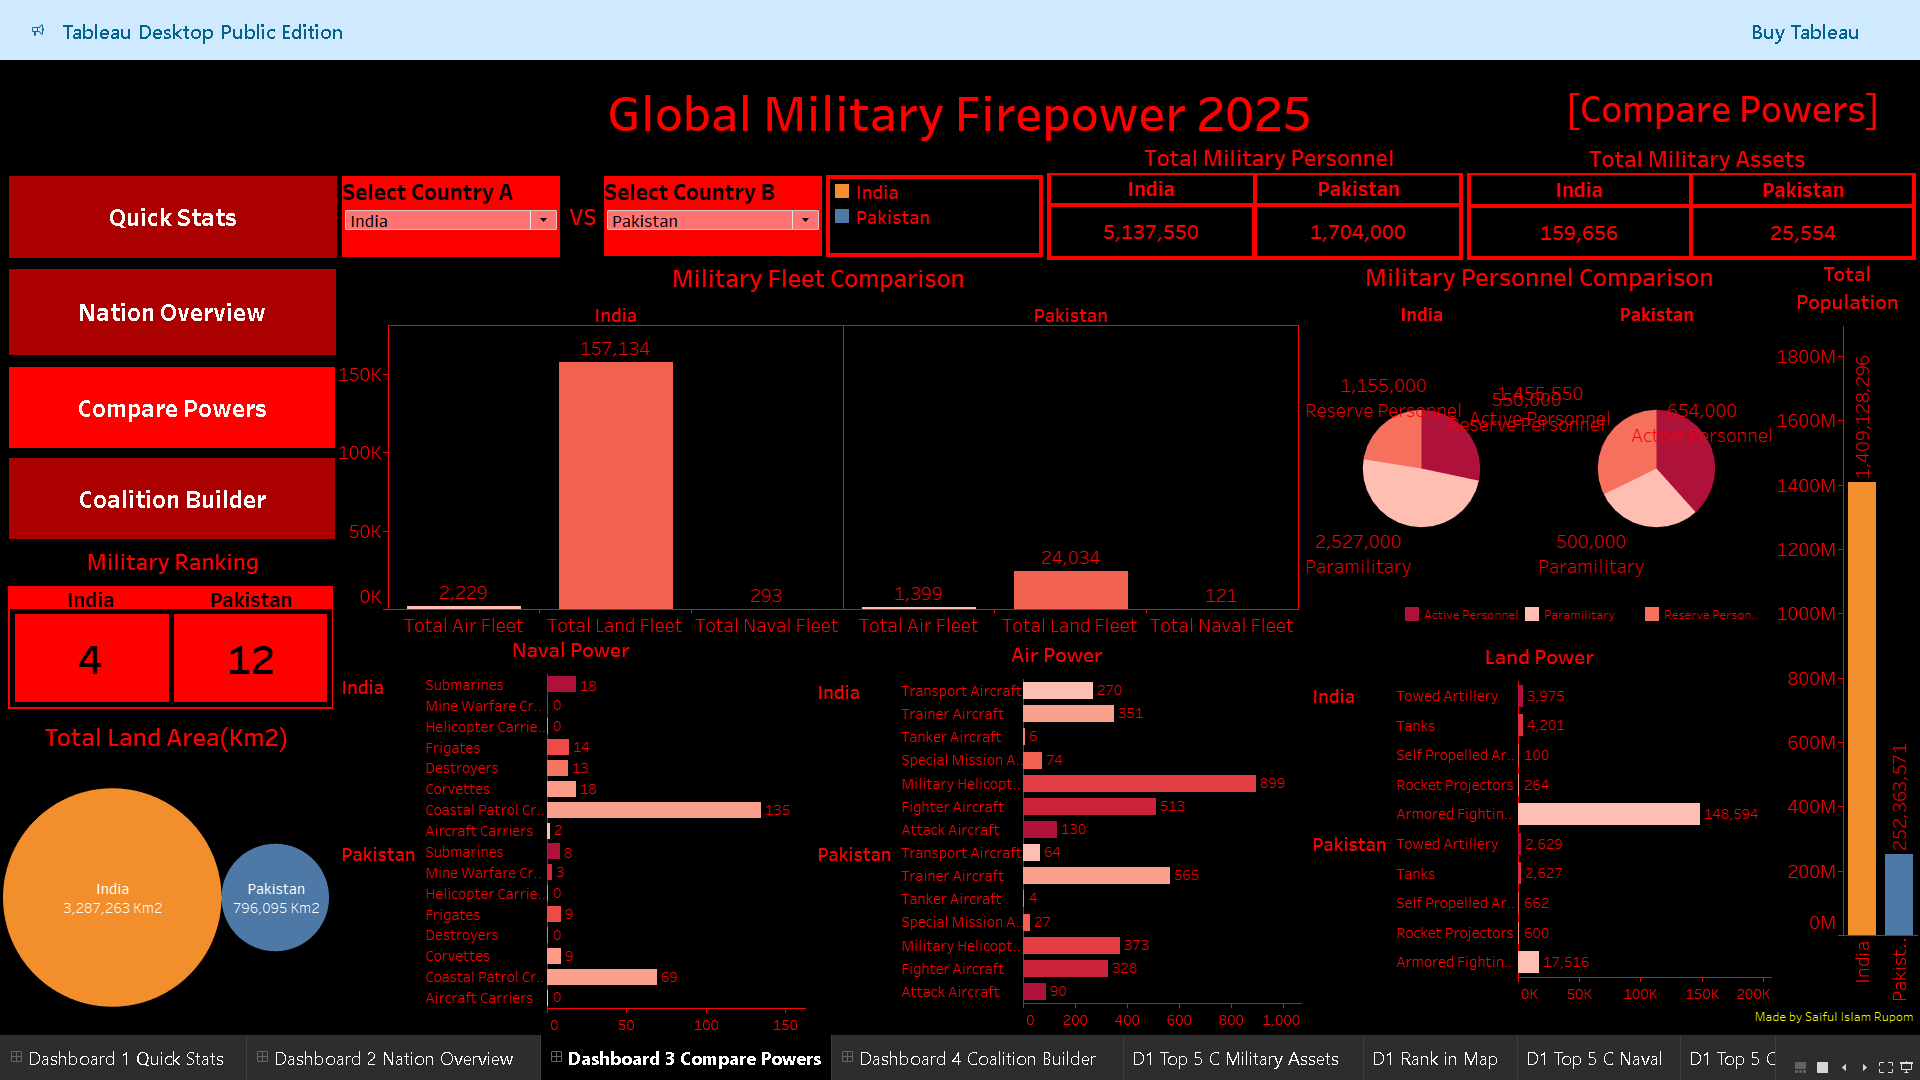

The page's visual inventory and layout, read from the dashboard file:
{"tool":"tableau","page":{"name":"Dashboard 3 Compare Powers","canvas":[1000,1000],"units":"permille","ordinal":2},"visuals":[{"type":"text","box":[796.1,5.4,201.4,88.5]},{"type":"text","box":[578.9,81.8,164.5,34.9]},{"type":"text","box":[801.7,83.1,164.5,34.9]},{"type":"worksheet","title":"D3 Military Per Com","mark":"Automatic","cols":["Calculation_1104789297251049472"],"box":[544.1,113.9,218.4,92.5]},{"type":"worksheet","title":"D3 Military Assets Com","mark":"Automatic","cols":["Calculation_1104789297251049472"],"box":[763,113.9,235.4,92.5]},{"type":"dashboard-object","box":[3.7,116.6,172.7,88.5]},{"type":"legend","title":"D3 Poulation Com","param":"[federated.04j63lw0p5v43o137wemf0y1v2ac].[none:Calculation_1104789297251049472:n","box":[430.2,118,112.8,84.5]},{"type":"parameter","param":"[Parameters].[Parameter 1]","box":[178.3,119.3,113.5,83.1]},{"type":"parameter","param":"[Parameters].[Parameter 2]","box":[314.8,119.3,113.5,81.8]},{"type":"text","box":[291.8,139.4,23.7,40.2]},{"type":"worksheet","title":"D3 Poulation Com","mark":"Bar","rows":["total_population"],"cols":["Calculation_1104789297251049472"],"box":[925.1,199.7,73.9,766.8]},{"type":"worksheet","title":"D3 Military Per Dist","mark":"Pie","cols":["Calculation_1104789297251049472"],"box":[679.1,201.1,245,365.9]},{"type":"worksheet","title":"D3 Fleet Dist","mark":"Automatic","cols":["Calculation_1104789297251049472"],"box":[175.3,202.4,501.1,391.4]},{"type":"dashboard-object","box":[3.7,211.8,172.2,92.5]},{"type":"dashboard-object","box":[3.7,312.3,171.6,87.1]},{"type":"dashboard-object","box":[3.7,406.2,171.6,87.1]},{"type":"worksheet","title":"D3 Rank Com","mark":"Automatic","cols":["Calculation_1104789297251049472"],"box":[4.2,494.6,170,171.6]},{"type":"legend","title":"D3 Military Per Dist","param":"[federated.04j63lw0p5v43o137wemf0y1v2ac].[:Measure Names]","box":[730.1,557.6,197.7,30.8]},{"type":"worksheet","title":"D3 Air Fleet Dist","mark":"Automatic","rows":["Calculation_1104789297251049472"],"box":[422.4,591.1,255.6,407.5]},{"type":"worksheet","title":"D3 Land Fleet Dist","mark":"Automatic","rows":["Calculation_1104789297251049472"],"box":[680.1,592.5,242.8,378]},{"type":"worksheet","title":"D3 Area Com","mark":"Circle","box":[1.6,672.9,170,323.1]},{"type":"worksheet","title":"D* My Name and Link","mark":"Automatic","box":[891.5,965.1,106.6,29.5]}]}

Visuals, with their boxes on the dashboard's canvas, which has no fixed pixel size, in thousandths of its width and height (x1, y1, x2, y2). These are canvas units, not pixel positions in the 1920x1080 screenshot, which may show the page scaled, cropped or inside an application window:
text: x1=796 y1=5 x2=998 y2=94
text: x1=579 y1=82 x2=743 y2=117
text: x1=802 y1=83 x2=966 y2=118
"D3 Military Per Com" worksheet: x1=544 y1=114 x2=762 y2=206
"D3 Military Assets Com" worksheet: x1=763 y1=114 x2=998 y2=206
dashboard-object: x1=4 y1=117 x2=176 y2=205
"D3 Poulation Com" legend: x1=430 y1=118 x2=543 y2=202
parameter: x1=178 y1=119 x2=292 y2=202
parameter: x1=315 y1=119 x2=428 y2=201
text: x1=292 y1=139 x2=316 y2=180
"D3 Poulation Com" worksheet (Bar marks): x1=925 y1=200 x2=999 y2=966
"D3 Military Per Dist" worksheet (Pie marks): x1=679 y1=201 x2=924 y2=567
"D3 Fleet Dist" worksheet: x1=175 y1=202 x2=676 y2=594
dashboard-object: x1=4 y1=212 x2=176 y2=304
dashboard-object: x1=4 y1=312 x2=175 y2=399
dashboard-object: x1=4 y1=406 x2=175 y2=493
"D3 Rank Com" worksheet: x1=4 y1=495 x2=174 y2=666
"D3 Military Per Dist" legend: x1=730 y1=558 x2=928 y2=588
"D3 Air Fleet Dist" worksheet: x1=422 y1=591 x2=678 y2=999
"D3 Land Fleet Dist" worksheet: x1=680 y1=592 x2=923 y2=970
"D3 Area Com" worksheet (Circle marks): x1=2 y1=673 x2=172 y2=996
"D* My Name and Link" worksheet: x1=892 y1=965 x2=998 y2=995
